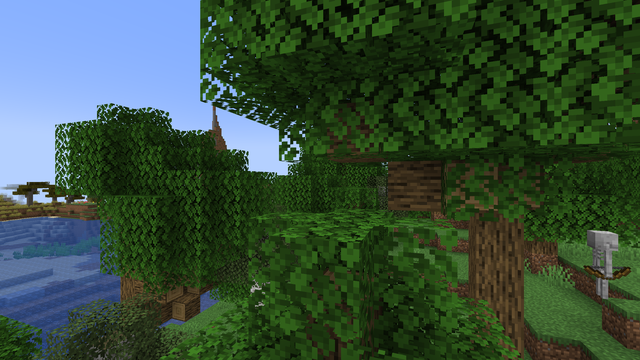squelettes: (583, 230, 621, 302)
